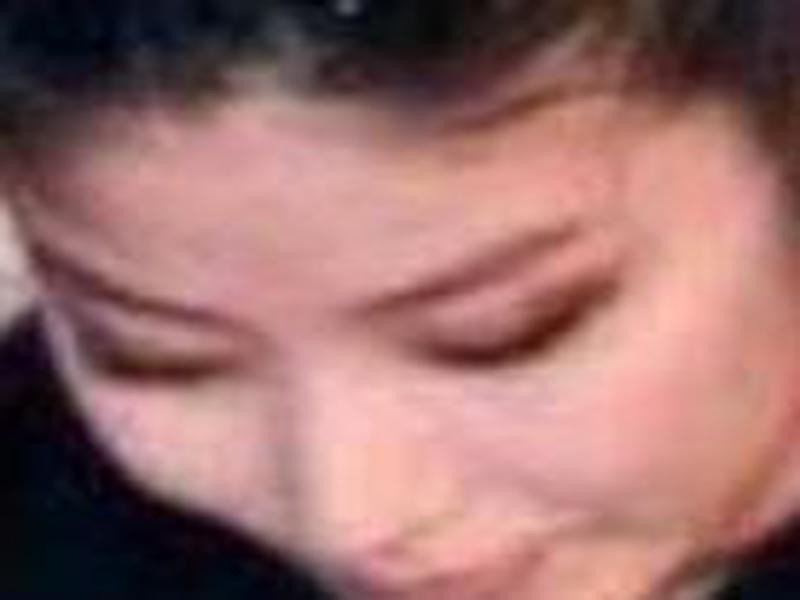without_mask: (12, 63, 783, 600)
